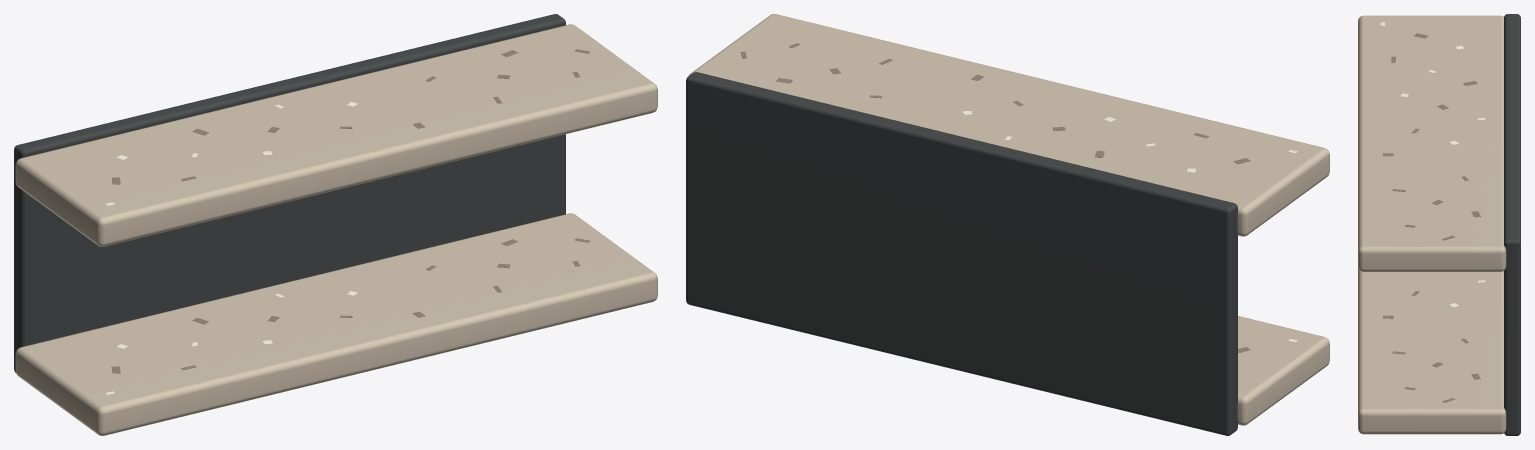
File: kitchenModernShelfCharcoal.glb
3 renders of one model, left to right at view 1: azimuth 30°, elevation 25°; view 2: azimuth 150°, elevation 25°; view 3: azimuth 270°, elevation 25°, orthographic. The views are drawn at different scales.
Parts seen in each view (by area): view 1: Wall shelf, Wall shelf.001, Wall backplate; view 2: Wall backplate, Wall shelf.001, Wall shelf; view 3: Wall shelf.001, Wall shelf, Wall backplate.
Boxes of the visible parts, box(x1,y1,x2,y2) form: Wall shelf: box(15, 213, 657, 435); Wall shelf.001: box(15, 24, 657, 246); Wall backplate: box(14, 14, 565, 372); Wall backplate: box(686, 72, 1237, 435); Wall shelf.001: box(688, 14, 1329, 236); Wall shelf: box(1237, 316, 1329, 425); Wall shelf.001: box(1358, 15, 1506, 271); Wall shelf: box(1358, 267, 1506, 434); Wall backplate: box(1504, 14, 1520, 435).
Bounding box in the file's own units: 1.8 × 0.705 × 0.5275.
